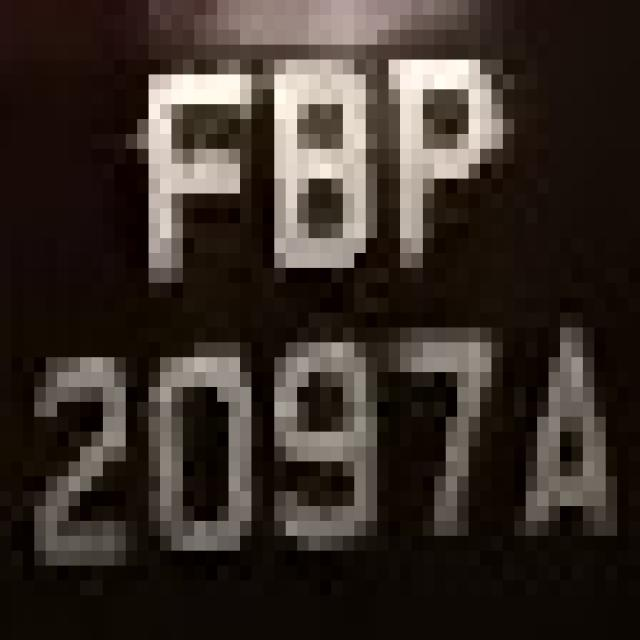0: (137, 298, 252, 550)
2: (23, 298, 171, 625)
7: (354, 298, 503, 610)
9: (217, 298, 377, 536)
A: (514, 312, 640, 580)
B: (240, 0, 377, 283)
F: (114, 45, 240, 298)
P: (366, 30, 503, 283)
